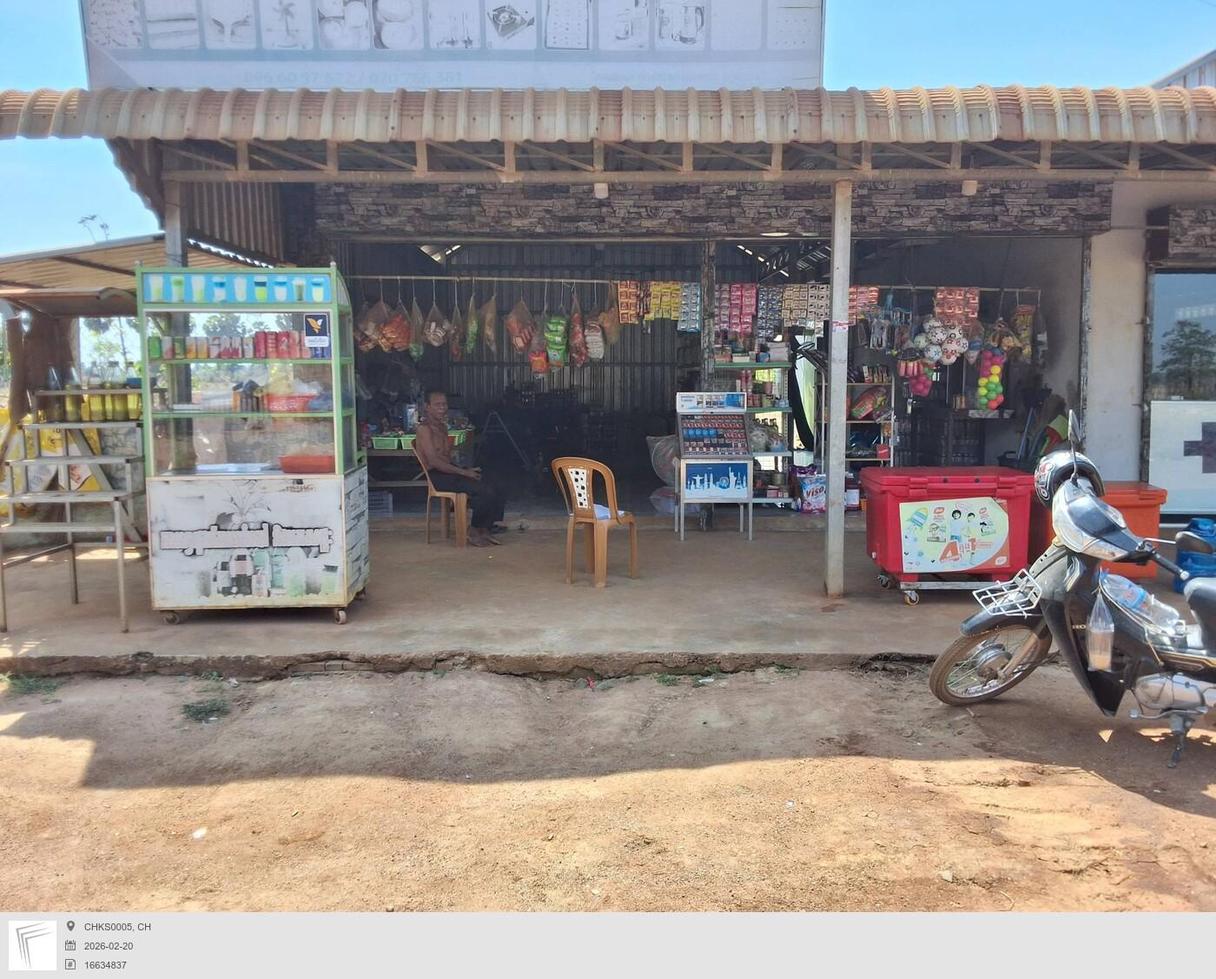cigarette_pack: (694, 425, 702, 441), (724, 432, 732, 447), (701, 427, 708, 444), (710, 428, 718, 442), (686, 427, 693, 441), (732, 433, 739, 446), (740, 433, 748, 444), (684, 430, 688, 444)
